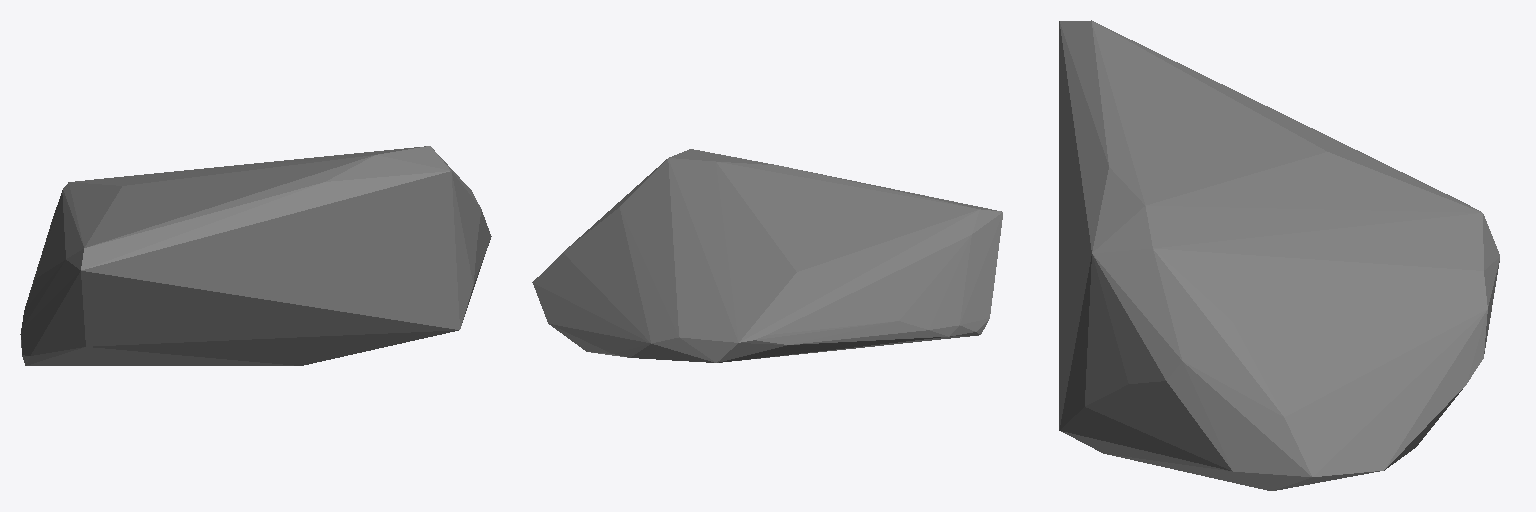
The robot description file, URDF, robot "30_163":
<?xml version="1.0"?>
<robot name="30_163">
  <link name="link">
    <contact>
      <lateral_friction value="0.6"/>
    </contact>
    <inertial>
      <origin xyz="0.00057328319934052 -0.008347400790890708 -0.0017378220593413285" rpy="0 0 0"/>
      <mass value = "0.23369862502575459"/>
      <inertia ixx="6.267255789369776e-05" ixy="1.0310334508826317e-05" ixz="-1.2823847760288155e-05" iyy="0.0001388585510179151" iyz="-7.388555334229427e-06" izz="0.0001713018725495687" />
    </inertial>
    <visual name="visual">
      <geometry>
        <mesh filename="30_163.obj"/>
      </geometry>
      <material name="material">
        <color rgba="0.5368475762468515 0.5368475762468515 0.5368475762468515 1.0"/>
      </material>
    </visual>
    <collision name="collision">
      <geometry>
        <mesh filename="30_163.obj"/>
      </geometry>
    </collision>
  </link>
</robot>

--- Facts derived from the render (not from the file) ---
3 views of the same robot in one strip: view 1: azimuth 30°, elevation 25°; view 2: azimuth 150°, elevation 25°; view 3: azimuth 270°, elevation 25° (orthographic).
Model 30_163 with 1 links and 0 joints (none), rooted at link, posed every joint at zero.
Links seen in each view (by area): view 1: link; view 2: link; view 3: link.
Link boxes in pixels (left/top/right/bottom): link: left=20, top=146, right=491, bottom=365; link: left=532, top=149, right=1002, bottom=362; link: left=1059, top=20, right=1499, bottom=490.
Bounding box of the posed robot: 0.1052 × 0.0647 × 0.0341 m (x, y, z).
Meshes: 1 distinct files referenced, 1 mesh visuals loaded (1 OBJ).
